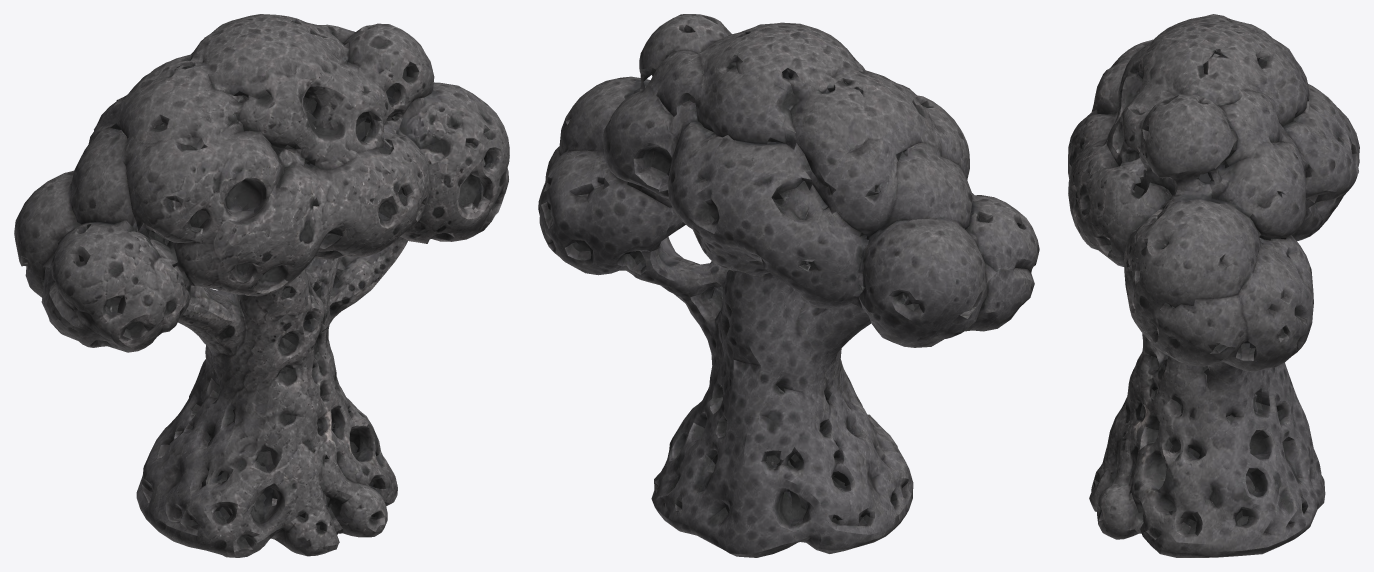
The model's file is mother-puff-corrupt-tree.glb.
3 views of the same model, side by side, from view 1: azimuth 30°, elevation 25°; view 2: azimuth 150°, elevation 25°; view 3: azimuth 270°, elevation 25° (orthographic).
Visible parts, largest first — view 1: Mesh_0; view 2: Mesh_0; view 3: Mesh_0.
Boxes of the visible parts, x1=… form: Mesh_0: x1=14, y1=14, x2=509, y2=557; Mesh_0: x1=538, y1=14, x2=1039, y2=557; Mesh_0: x1=1068, y1=14, x2=1359, y2=557.
Bounding box in the file's own units: 1.89 × 1.9 × 1.04.
1 material, 1 textured.
